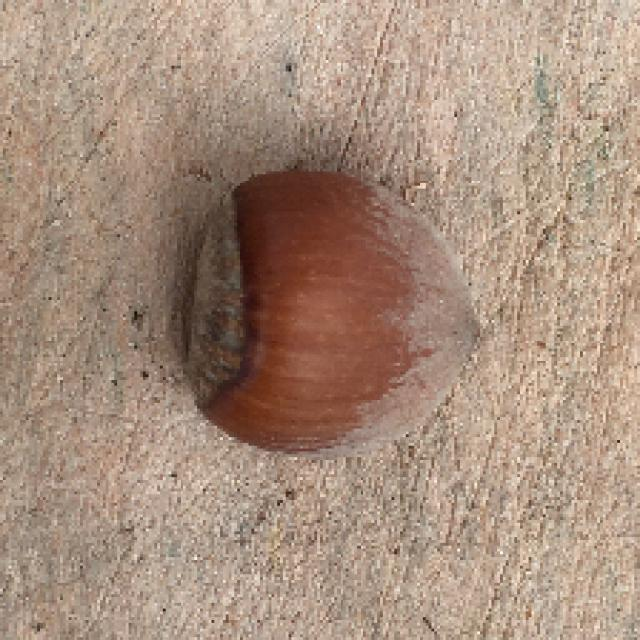damagedHazelnut: (178, 161, 477, 459)
